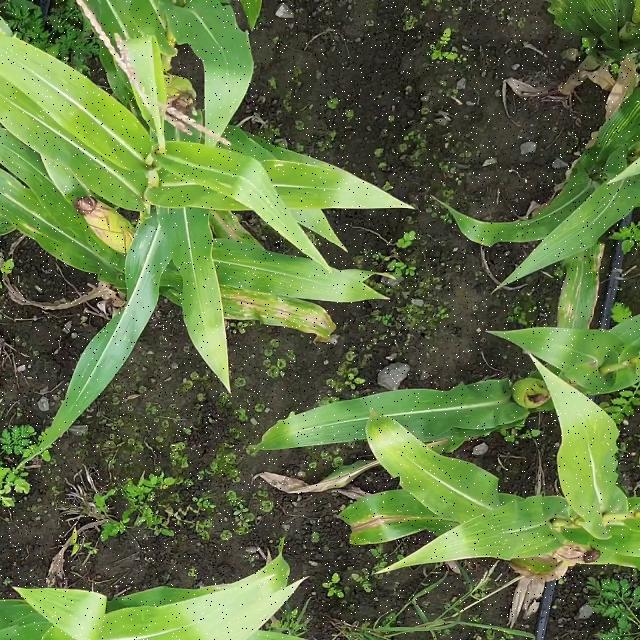gray-leaf-spot: (564, 252, 617, 336)
northern-leaf-blight: (219, 291, 352, 348), (344, 506, 442, 542)
